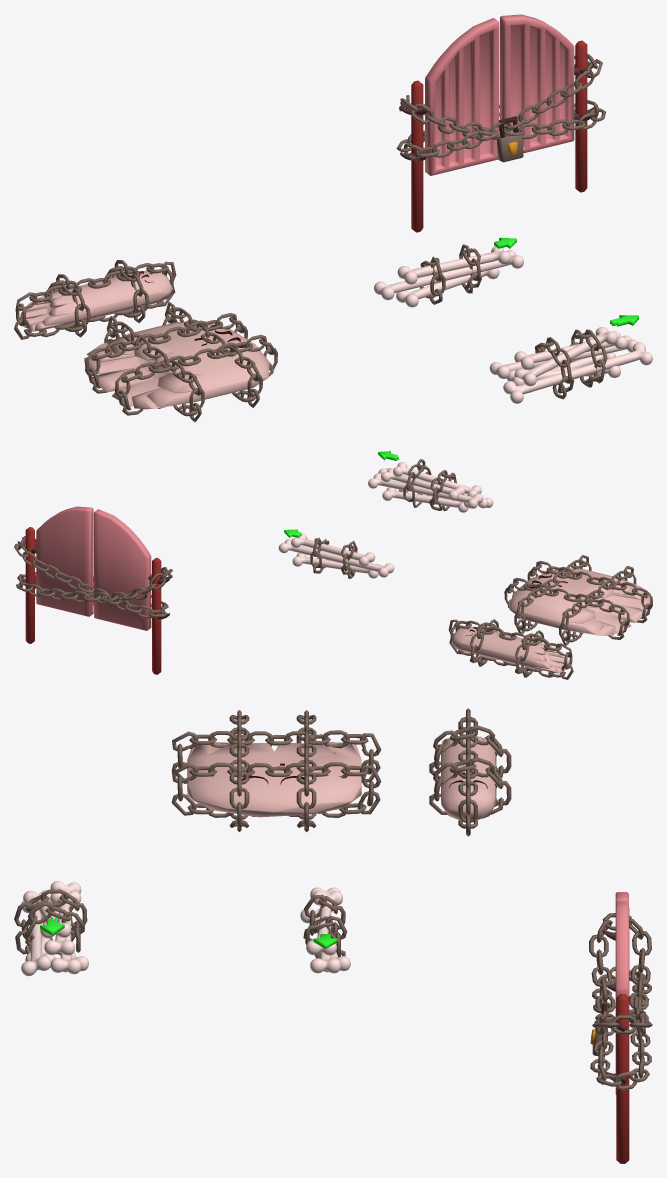
The model's file is newModels 1.fbx.
3 renders of one model, top to bottom at view 1: azimuth 30°, elevation 25°; view 2: azimuth 150°, elevation 25°; view 3: azimuth 270°, elevation 25°, orthographic. The views are drawn at different scales.
Visible parts, largest first — view 1: Cube.063, Icosphere.018, Icosphere.016, Cube.009, Torus.022, Torus.017, Torus.011, Torus.020, Torus.019, Torus.012, Cube.023, Torus.016 (+10 smaller); view 2: Cube.063, Icosphere.018, Icosphere.016, Cube.009, Torus.011, Torus.017, Torus.022, Torus.019, Torus.020, Torus.012, Torus.016, Cube.008 (+11 smaller); view 3: Icosphere.018, Torus.011, Torus.016, Icosphere.016, Torus.012, Cube.009, Torus.022, Torus.019, Cube.063, Torus.020, Torus.017, Torus.018 (+9 smaller).
Boxes of the visible parts, x1,y1,x2,y2 form: Cube.063: (425,14,574,175); Icosphere.018: (84,322,269,408); Icosphere.016: (20,270,172,331); Cube.009: (411,40,587,232); Torus.022: (396,54,602,160); Torus.017: (14,261,176,339); Torus.011: (399,95,605,139); Torus.020: (115,334,277,415); Torus.019: (85,313,247,393); Torus.012: (104,316,204,422); Cube.023: (503,342,652,403); Torus.016: (162,302,262,407); Cube.063: (36,506,151,630); Icosphere.018: (509,568,652,635); Icosphere.016: (452,626,568,673); Cube.009: (25,527,161,674); Torus.011: (16,567,172,604); Torus.017: (448,619,573,679); Torus.022: (14,536,168,618); Torus.019: (504,577,629,639); Torus.020: (527,561,652,622); Torus.012: (559,565,636,645); Torus.016: (514,555,591,633); Cube.008: (278,539,394,577); Icosphere.018: (187,742,361,817); Torus.011: (589,913,651,1090); Torus.016: (171,762,381,817); Icosphere.016: (441,736,495,820); Torus.012: (171,730,381,783); Cube.009: (616,908,629,1163); Torus.022: (592,966,652,1035); Torus.019: (296,710,316,832); Cube.063: (615,892,628,1094); Torus.020: (229,710,249,831); Torus.017: (458,708,477,836); Torus.018: (429,757,511,818).
Bounding box in the file's own units: 8150 × 2290 × 6120.
